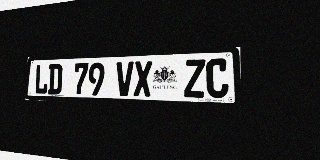7: (73, 63, 89, 95)
9: (88, 62, 105, 96)
C: (206, 58, 229, 98)
D: (48, 64, 63, 95)
L: (34, 64, 49, 94)
V: (116, 61, 134, 96)
X: (134, 61, 152, 97)
Z: (184, 59, 205, 98)
